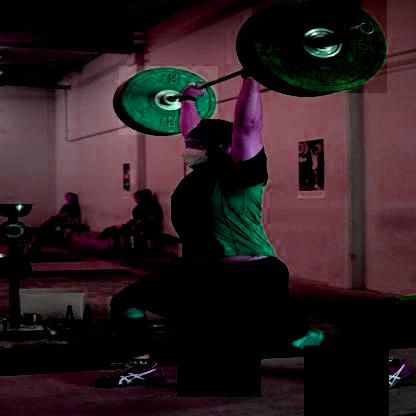barbell: (252, 1, 387, 93), (119, 67, 218, 135)
